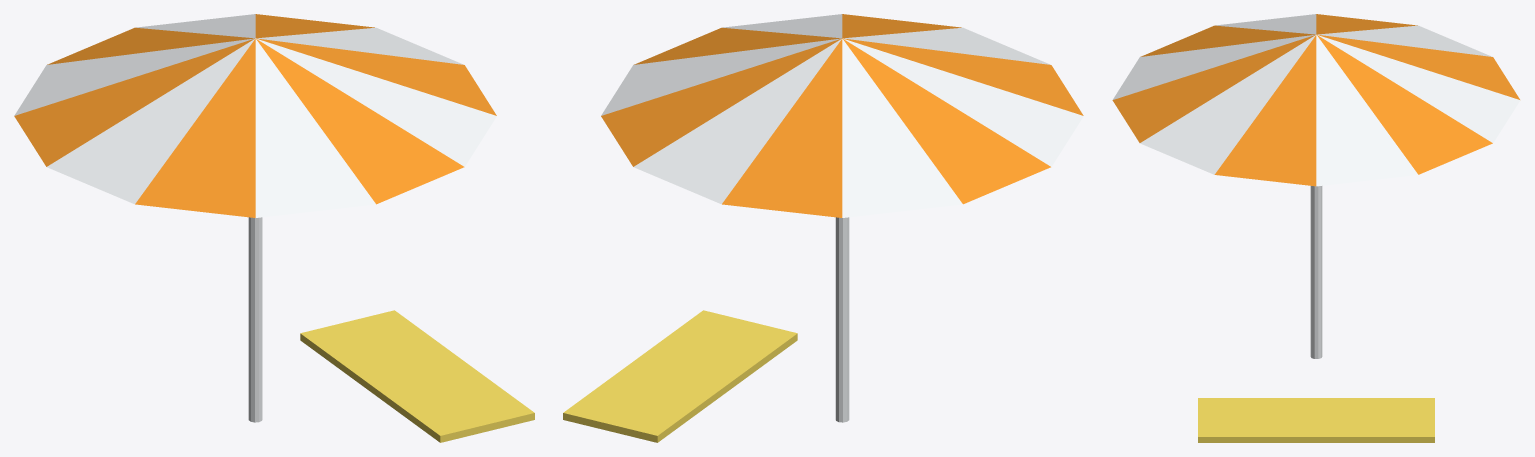
File: beach-umbrella.glb
3 renders of one model, left to right at view 1: azimuth 30°, elevation 25°; view 2: azimuth 150°, elevation 25°; view 3: azimuth 270°, elevation 25°, orthographic. The views are drawn at different scales.
Visible parts, largest first — view 1: Beach towel, Beach canopy panel.008, Beach canopy panel.007, Beach canopy panel.006, Beach canopy panel.009, Beach canopy panel.010, Beach canopy panel.005, Beach canopy panel.004, Beach canopy panel.011, Umbrella pole, Beach canopy panel, Beach canopy panel.003 (+2 smaller); view 2: Beach towel, Beach canopy panel.003, Beach canopy panel.004, Beach canopy panel.005, Beach canopy panel.002, Beach canopy panel.001, Beach canopy panel.006, Beach canopy panel, Beach canopy panel.007, Umbrella pole, Beach canopy panel.011, Beach canopy panel.008 (+2 smaller); view 3: Beach towel, Beach canopy panel, Beach canopy panel.011, Beach canopy panel.001, Beach canopy panel.010, Beach canopy panel.002, Beach canopy panel.009, Beach canopy panel.003, Beach canopy panel.008, Umbrella pole, Beach canopy panel.004, Beach canopy panel.007 (+2 smaller).
Part boxes in pixels (x1,y1,x2,y2): Beach towel: (300,310,534,442); Beach canopy panel.008: (255,39,375,217); Beach canopy panel.007: (135,39,255,217); Beach canopy panel.006: (47,38,255,204); Beach canopy panel.009: (256,39,464,204); Beach canopy panel.010: (256,38,496,166); Beach canopy panel.005: (14,38,254,166); Beach canopy panel.004: (14,38,254,115); Beach canopy panel.011: (257,38,496,115); Umbrella pole: (248,217,262,422); Beach canopy panel: (256,27,463,64); Beach canopy panel.003: (47,27,254,64); Beach towel: (563,310,797,442); Beach canopy panel.003: (722,39,842,217); Beach canopy panel.004: (842,39,962,217); Beach canopy panel.005: (842,38,1050,204); Beach canopy panel.002: (633,39,841,204); Beach canopy panel.001: (601,38,841,166); Beach canopy panel.006: (843,38,1083,166); Beach canopy panel: (601,38,840,115); Beach canopy panel.007: (843,38,1083,115); Umbrella pole: (835,217,849,422); Beach canopy panel.011: (634,27,841,64); Beach canopy panel.008: (843,27,1050,64); Beach towel: (1198,398,1434,442); Beach canopy panel: (1316,35,1418,186); Beach canopy panel.011: (1214,35,1316,186); Beach canopy panel.001: (1317,35,1492,174); Beach canopy panel.010: (1140,35,1315,174); Beach canopy panel.002: (1317,35,1520,142); Beach canopy panel.009: (1112,35,1315,142); Beach canopy panel.003: (1317,34,1519,99); Beach canopy panel.008: (1113,34,1315,99); Umbrella pole: (1310,186,1322,358); Beach canopy panel.004: (1318,25,1492,56); Beach canopy panel.007: (1140,25,1314,56).
Size of the model in its own units: 3.1 by 2.7 by 3.1.
